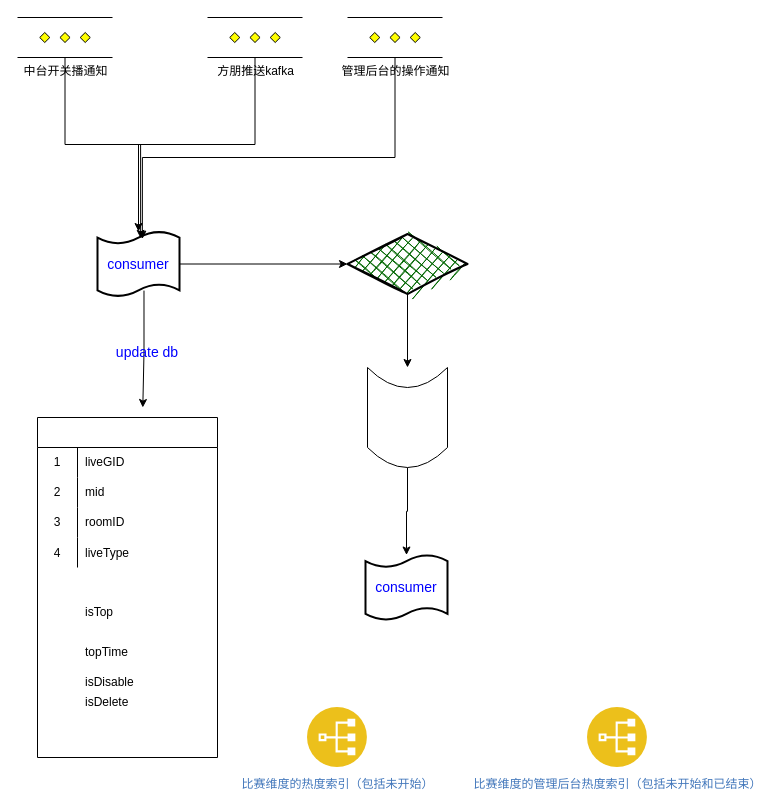
Some shapes in this 779 by 809 pixel diagram are drawn without their labels. The shapes that lost their labels are listed below. From the top down, each one's box as (x1, y1, x2, y2) in pixels, then its label:
(346, 232, 468, 294): 限频器
(366, 366, 448, 468): channel
(36, 416, 218, 758): Table
